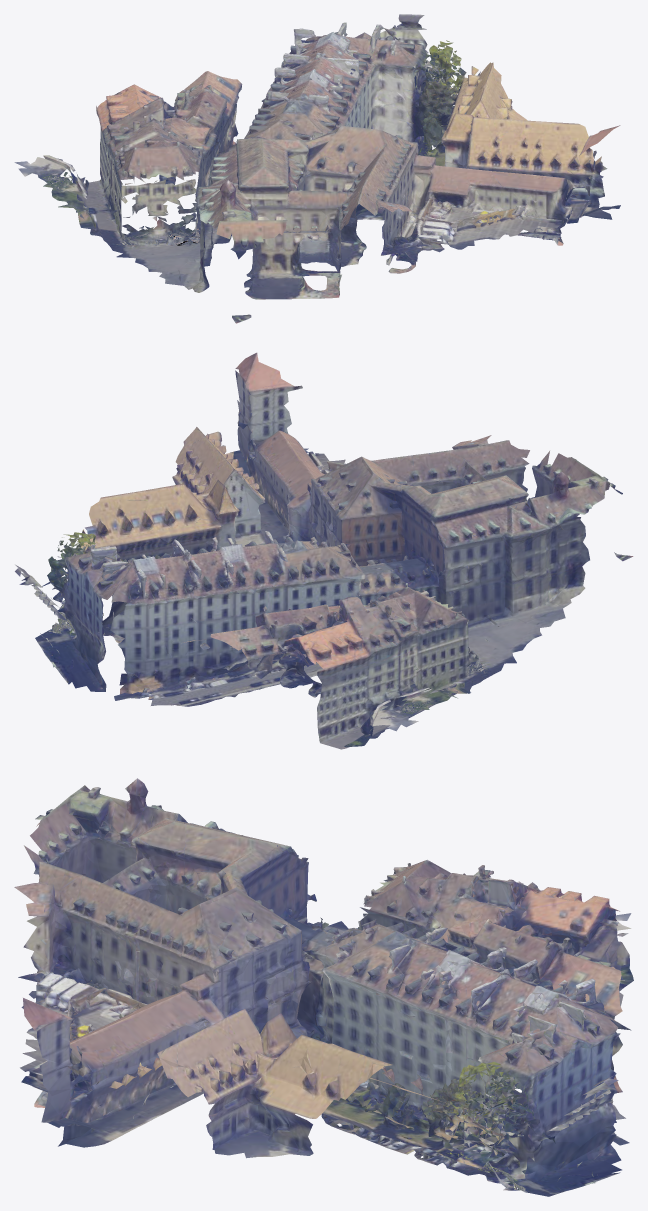
The picture shows the model from 3 angles, top to bottom: view 1: azimuth 30°, elevation 25°; view 2: azimuth 150°, elevation 25°; view 3: azimuth 270°, elevation 25°; orthographic projection. The views are drawn at different scales.
Size of the model in its own units: 107 by 39.14 by 108.
Materials: 1 (1 with a texture image).
